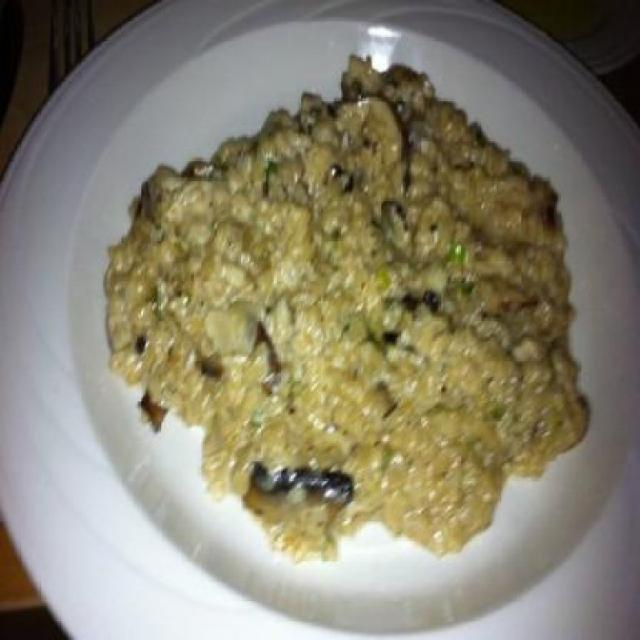Risotto: (126, 80, 585, 545)
